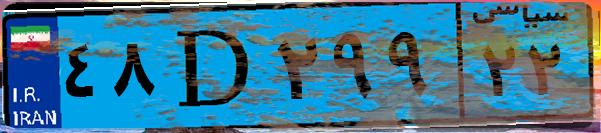2: (270, 28, 330, 110), (475, 38, 525, 113), (525, 38, 570, 115)
4: (57, 26, 110, 100)
8: (110, 28, 158, 98)
9: (385, 28, 445, 110), (330, 28, 385, 110)
D: (158, 12, 270, 120)
